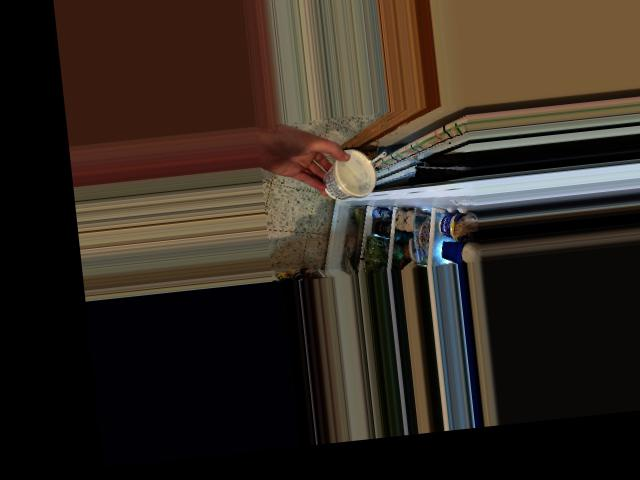cotage: (323, 151, 377, 198)
